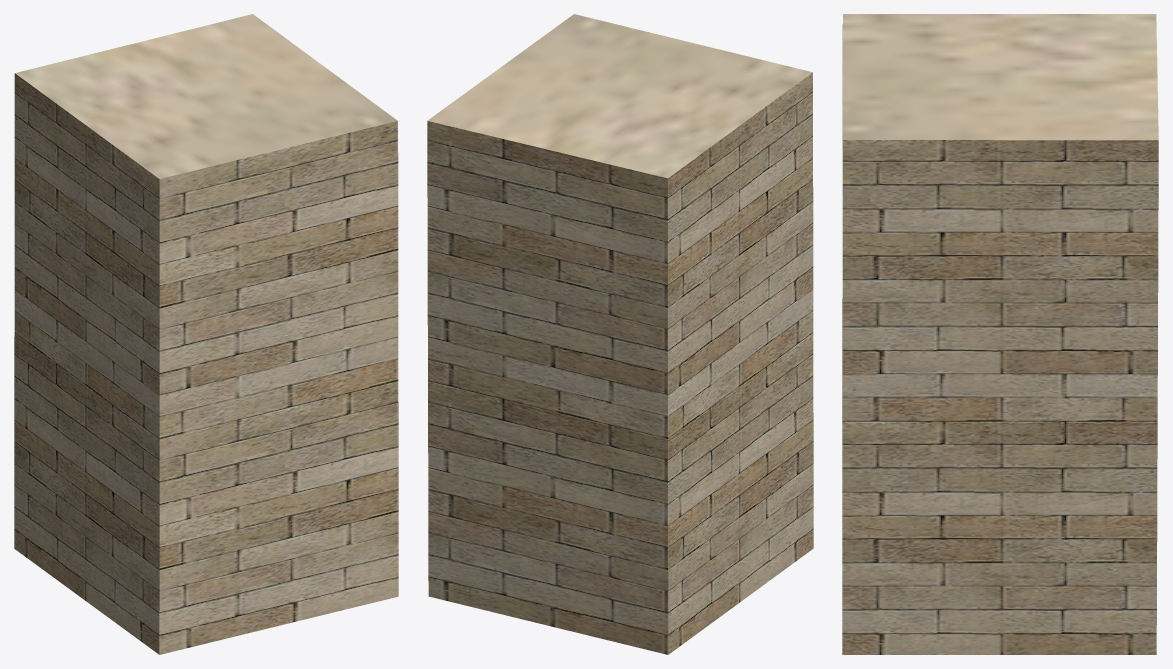
Rendered from thm_nboo_thed_imprv_seawall_intersection_s01_l2.fbx.
3 renders of one model, left to right at view 1: azimuth 30°, elevation 25°; view 2: azimuth 150°, elevation 25°; view 3: azimuth 270°, elevation 25°, orthographic. The views are drawn at different scales.
Visible parts, largest first — view 1: mesh_node; view 2: mesh_node; view 3: mesh_node.
Part boxes in pixels (x1,y1,x2,y2): mesh_node: [14, 14, 398, 654]; mesh_node: [427, 14, 813, 654]; mesh_node: [842, 14, 1158, 654].
Size of the model in its own units: 4.9 by 9.29 by 5.18.
